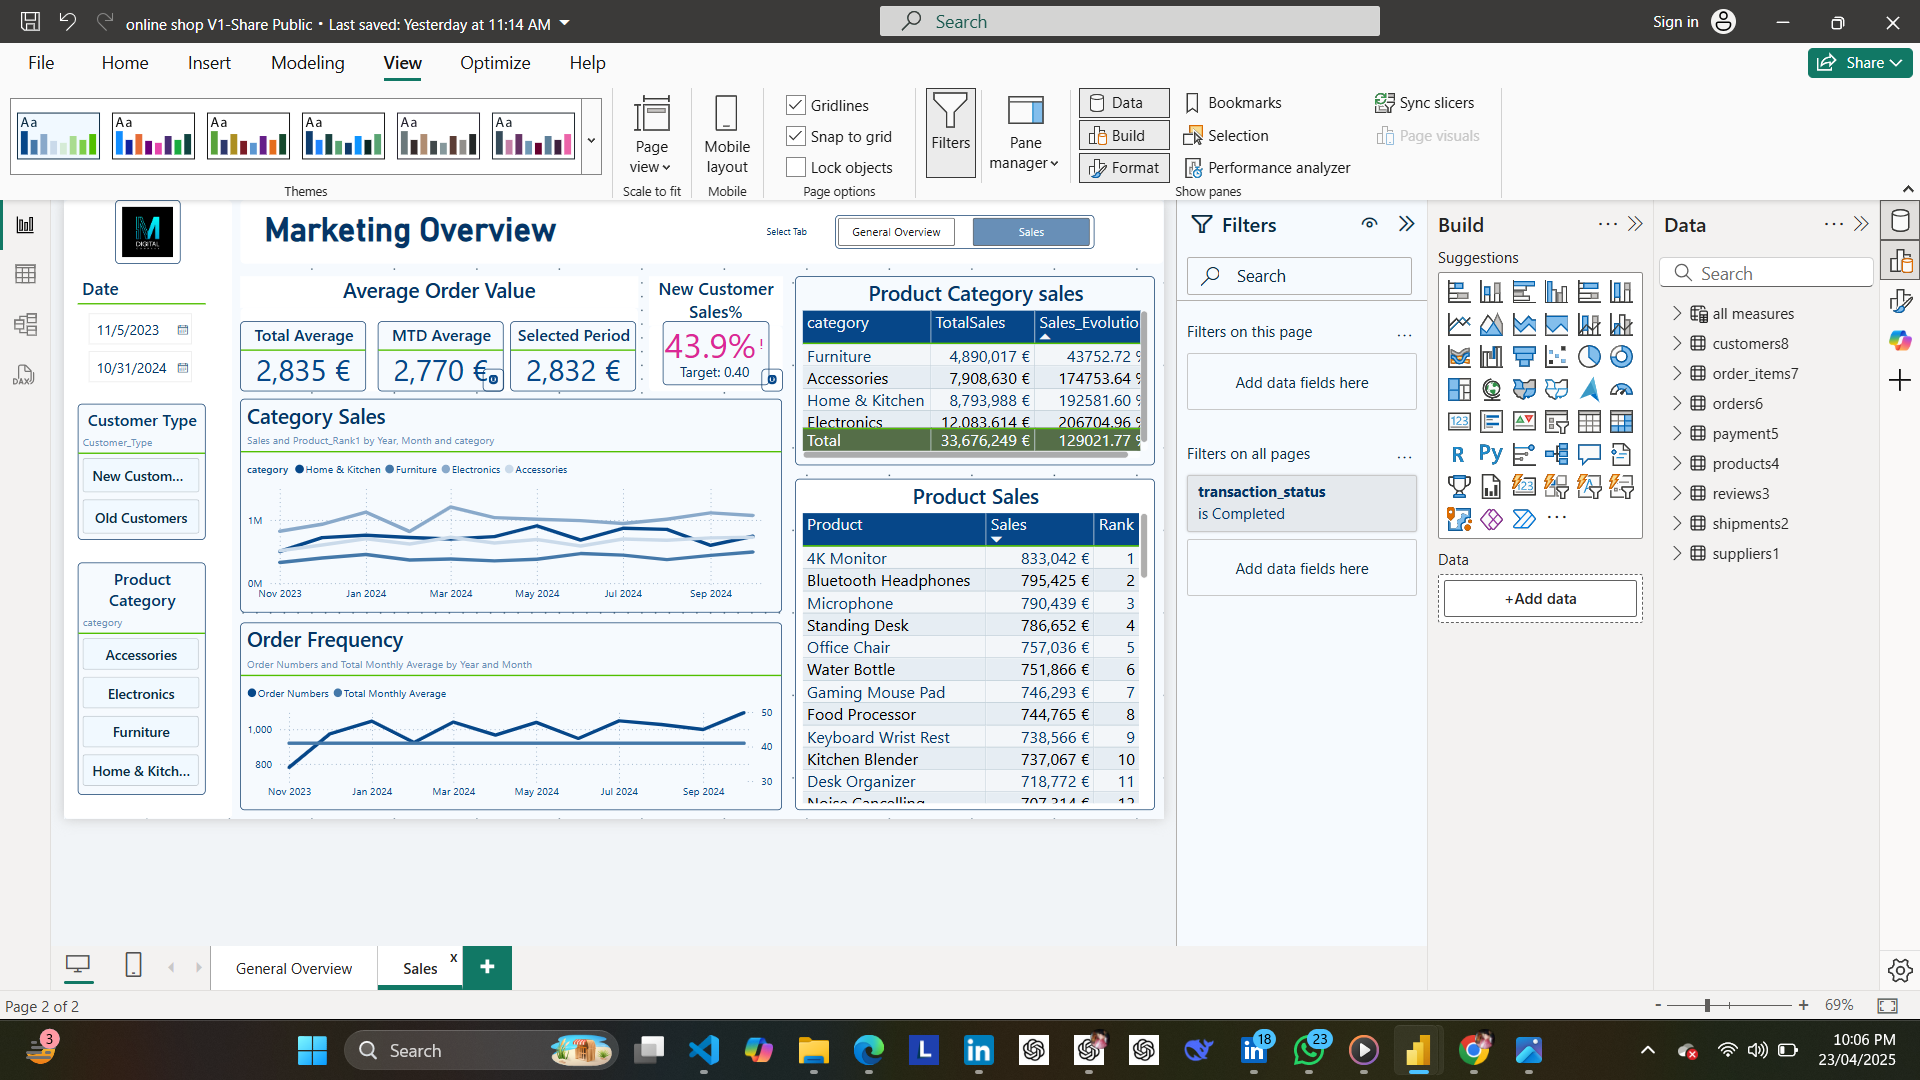

The page's visual inventory and layout, read from the dashboard file:
{"tool":"powerbi","page":{"name":"Sales","canvas":[1280,720],"ordinal":1},"visuals":[{"type":"shape","box":[205.7,0,1074.3,74.3],"z":0},{"type":"shape","title":"Average Order Value","box":[205.7,88.6,462.9,134.3],"z":1000,"group":"g1"},{"type":"shape","title":"New Customer Sales%","box":[680.6,88.6,155.7,134.3],"z":1000},{"type":"shape","box":[0,0,195.7,720],"z":2000},{"type":"slicer","title":"Date","fields":{"Values":["orders6.order_date"]},"box":[15.7,88.6,148.6,124.3],"z":3000},{"type":"card","title":"MTD Average","fields":{"Values":["orders6.AOV_MTD"]},"box":[365.4,141.1,146.8,81.8],"z":4000,"group":"g1"},{"type":"lineChart","title":"Order Frequency","fields":{"Category":["orders6.order_date.Variation.Date Hierarchy.Year","orders6.order_date.Variation.Date Hierarchy.Month"],"Y":["CountNonNull(orders6.order_id)"],"Y2":["Min(orders6.Monthly_Average)"]},"box":[205.7,491.4,630,218.6],"z":4000},{"type":"textbox","box":[228.6,7.1,361.4,58.6],"z":5000},{"type":"card","title":"Total Average","fields":{"Values":["orders6.Total_AOV"]},"box":[205.7,141.1,146.8,81.8],"z":5000,"group":"g1"},{"type":"pageNavigator","box":[897.2,17.2,301.5,39.4],"z":6000},{"type":"card","title":"Selected Period","fields":{"Values":["orders6.AOV_Selected_Period"]},"box":[520.2,141.1,146.8,81.8],"z":6000,"group":"g1"},{"type":"tableEx","title":"Product Category sales","fields":{"Values":["products4.category","orders6.TotalSales","orders6.Sales_Evolution"]},"box":[851.4,88.6,418.6,220],"z":7000},{"type":"tableEx","title":"Product Sales","fields":{"Values":["products4.product_name","order_items7.Supplier_Sales","products4.Product_Rank1"]},"box":[851.4,324.3,418.6,385.7],"z":8000},{"type":"lineChart","title":"Category Sales","fields":{"Y":["order_items7.Supplier_Sales"],"Category":["orders6.order_date.Variation.Date Hierarchy.Year","orders6.order_date.Variation.Date Hierarchy.Month"],"Series":["products4.category"]},"box":[205.7,231.4,630,248.6],"z":9000},{"type":"image","box":[60,0,75.7,74.3],"z":10000},{"type":"group","id":"g1","title":"Group 1","box":[205.7,88.6,462.9,134.3],"z":11000},{"type":"advancedSlicerVisual","title":"Customer Type","fields":{"Values":["orders6.Customer_Type"]},"box":[15.7,237.1,148.6,158.6],"z":12000},{"type":"advancedSlicerVisual","title":"Product Category","fields":{"Values":["products4.category"]},"box":[15.7,421.4,148.6,270],"z":13000},{"type":"kpi","title":"New Customer Sales%","fields":{"Indicator":["order_items7.New_Customer_Sales_Ratio"],"TrendLine":["orders6.YearMonth"],"Goal":["all measures.New_customers_sales%_goal"]},"box":[696.6,141,123.9,74.3],"z":14000},{"type":"textbox","box":[817.2,25.8,59.1,22.2],"z":15000},{"type":"actionButton","box":[811.1,196.2,25,26.4],"z":15001},{"type":"actionButton","box":[487,196.2,25,26.4],"z":15002}]}

Visuals, with their boxes on the page's 1280x720 design canvas (x1, y1, x2, y2). These are canvas units, not pixel positions in the 1920x1080 screenshot, which may show the page scaled, cropped or inside an application window:
shape: l=206, t=0, r=1280, b=74
"Average Order Value" shape: l=206, t=89, r=669, b=223
"New Customer Sales%" shape: l=681, t=89, r=836, b=223
shape: l=0, t=0, r=196, b=720
"Date" slicer: l=16, t=89, r=164, b=213
"MTD Average" card: l=365, t=141, r=512, b=223
"Order Frequency" lineChart: l=206, t=491, r=836, b=710
textbox: l=229, t=7, r=590, b=66
"Total Average" card: l=206, t=141, r=352, b=223
pageNavigator: l=897, t=17, r=1199, b=57
"Selected Period" card: l=520, t=141, r=667, b=223
"Product Category sales" tableEx: l=851, t=89, r=1270, b=309
"Product Sales" tableEx: l=851, t=324, r=1270, b=710
"Category Sales" lineChart: l=206, t=231, r=836, b=480
image: l=60, t=0, r=136, b=74
"Group 1" group: l=206, t=89, r=669, b=223
"Customer Type" advancedSlicerVisual: l=16, t=237, r=164, b=396
"Product Category" advancedSlicerVisual: l=16, t=421, r=164, b=691
"New Customer Sales%" kpi: l=697, t=141, r=820, b=215
textbox: l=817, t=26, r=876, b=48
actionButton: l=811, t=196, r=836, b=223
actionButton: l=487, t=196, r=512, b=223
